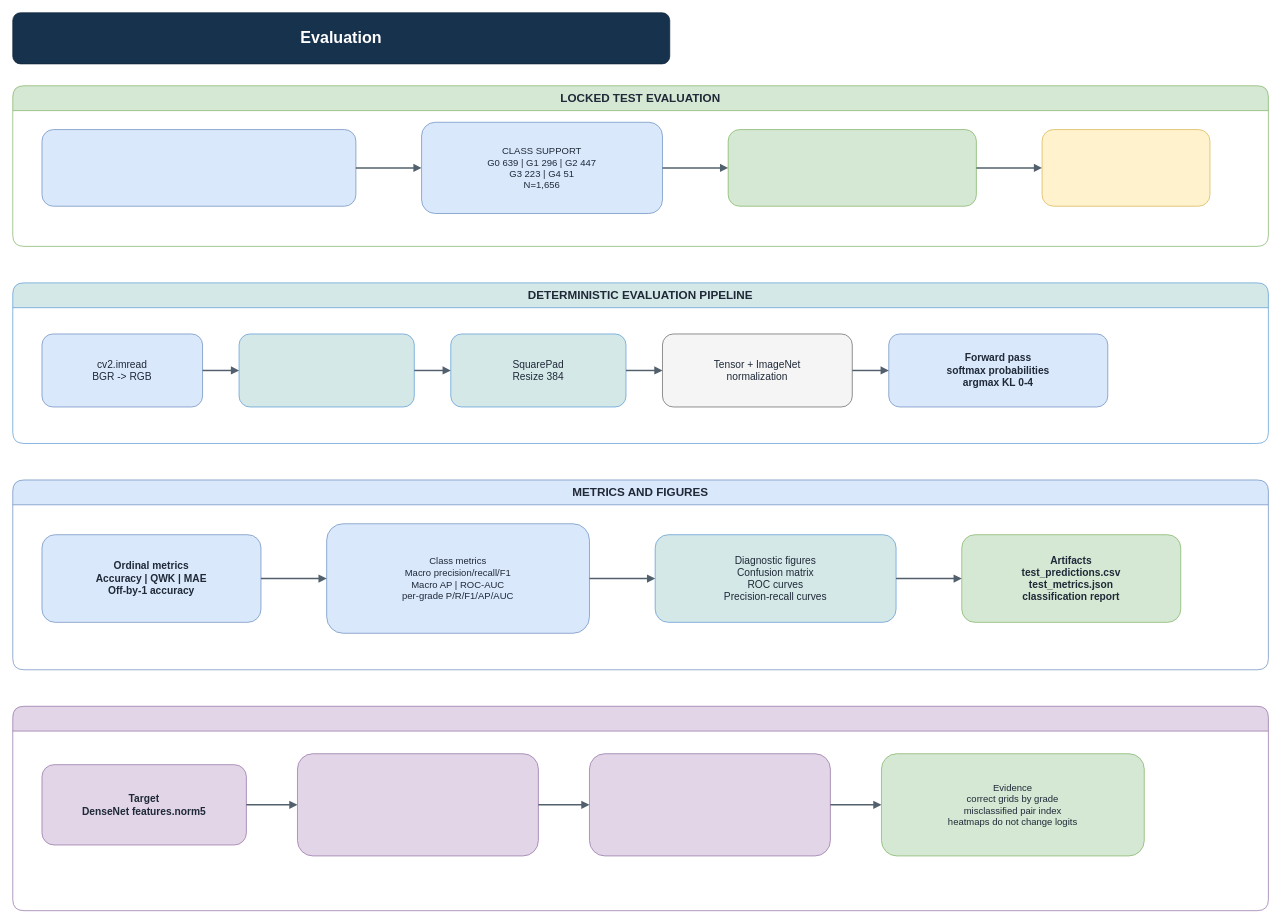
The diagram is 1281 pixels wide and 923 high, and some of its shapes have lost their labels. Here are the shapes that lost their labels. From the top down, the box of each, then its label:
(41, 129, 356, 206): DATASET ROOT derived/densenet121_yolo_square_roi_trainvaltest_v2/test
(727, 129, 976, 206): CHECKPOINT selected paired-view best_model.pth load once after validation
(1041, 129, 1210, 206): RULE No augmentation No sampler No test-based config changes
(238, 333, 414, 407): CLAHE 1.25 LAB L channel
(297, 753, 538, 856): Predicted class map backprop selected logit Grad-CAM weights + ReLU
(12, 706, 1268, 911): GRAD-CAM AUDIT (EXPLANATION AFTER PREDICTION)
(589, 753, 830, 856): Misclassified cases ROI + predicted-class CAM ROI + true-class CAM
